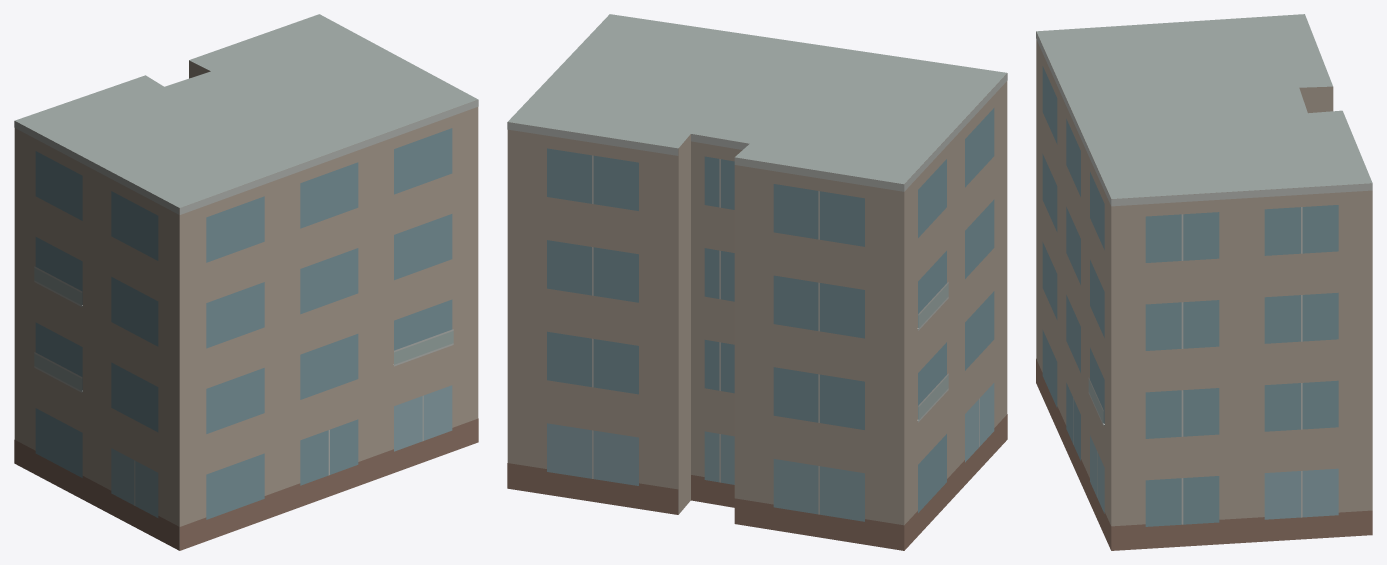
Rendered from survey-upis-32936635.glb.
3 views of the same model, side by side, from view 1: azimuth 30°, elevation 25°; view 2: azimuth 150°, elevation 25°; view 3: azimuth 270°, elevation 25° (orthographic). The views are drawn at different scales.
Visible parts, largest first — view 1: survey-upis-32936635.tmp; view 2: survey-upis-32936635.tmp; view 3: survey-upis-32936635.tmp.
Boxes of the visible parts, box(x1,y1,x2,y2) form: survey-upis-32936635.tmp: box(14, 14, 478, 550); survey-upis-32936635.tmp: box(507, 14, 1007, 550); survey-upis-32936635.tmp: box(1036, 14, 1372, 550).
Bounding box in the file's own units: 13.33 × 11.8 × 10.24.
